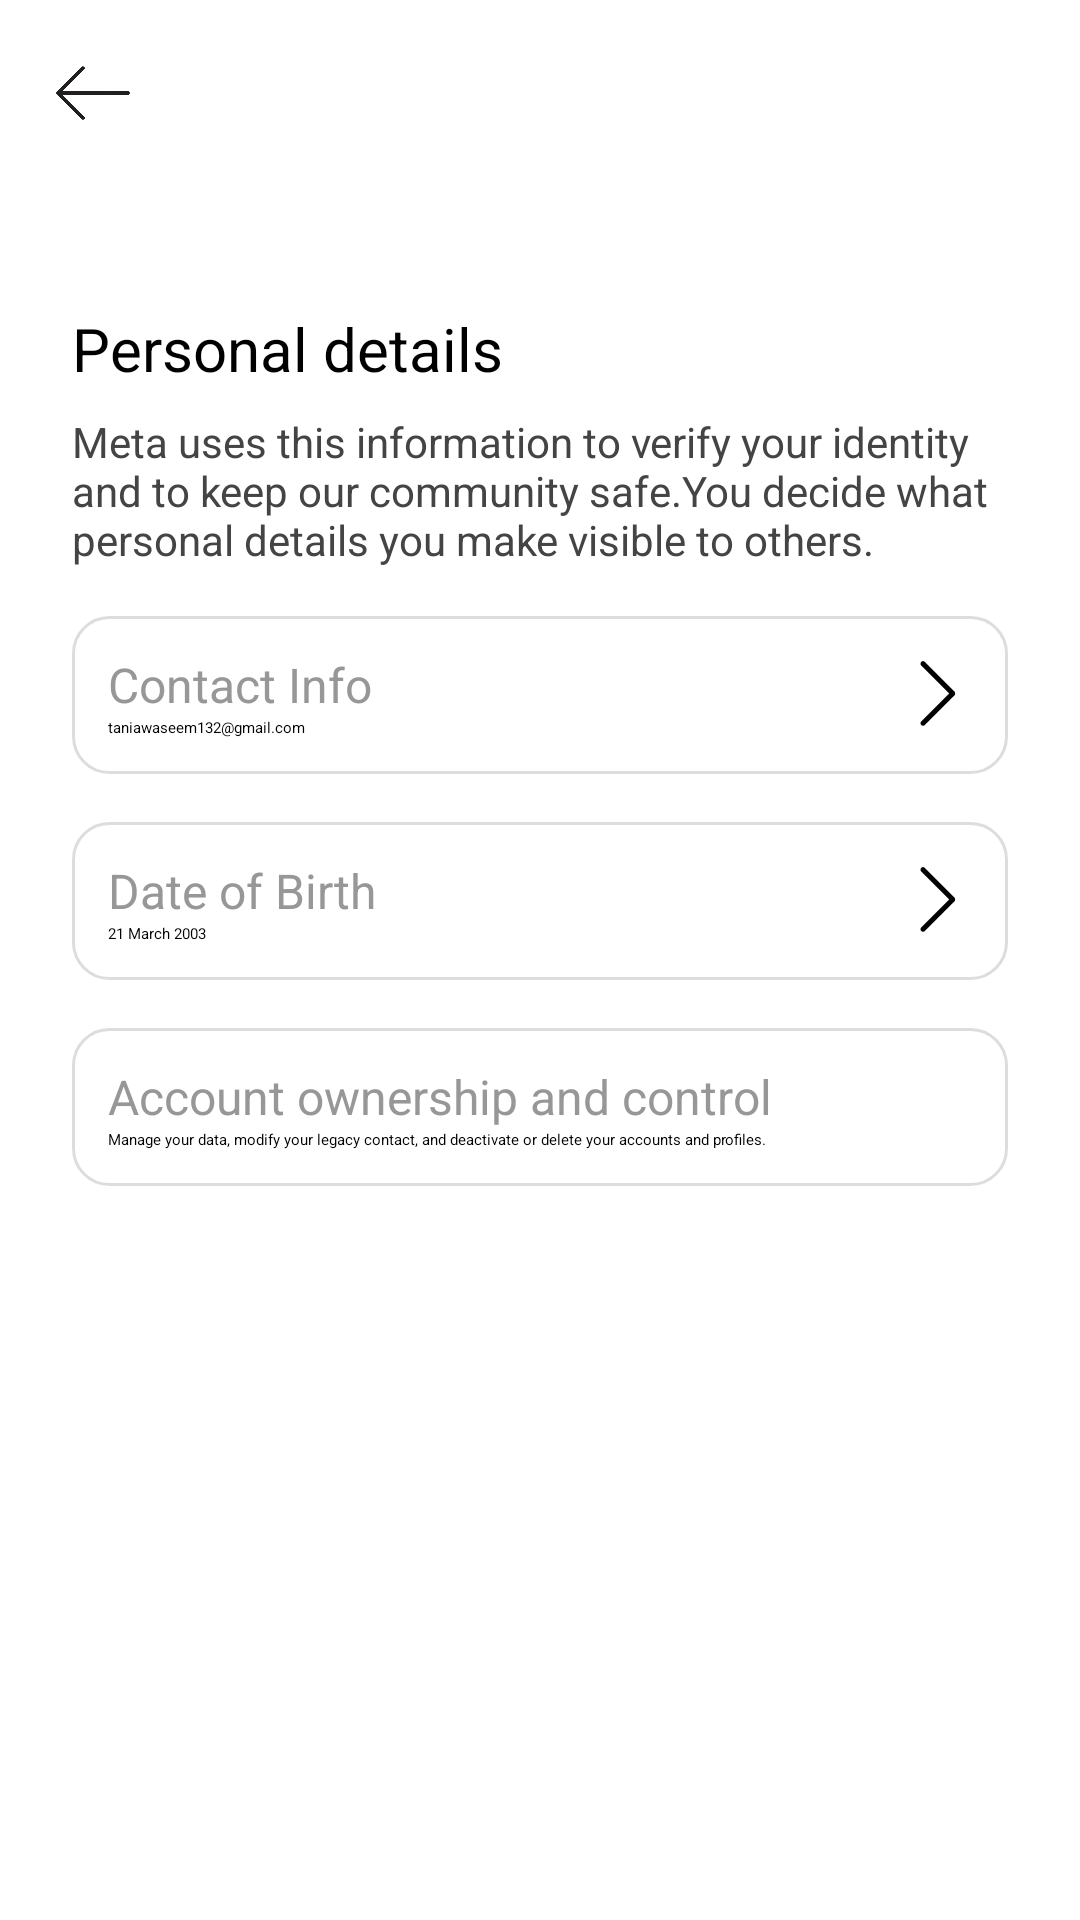

Named icons in this screenshot (1080px x 1920px) and their centers, point (x, y):
Back Button: point (93, 93)
